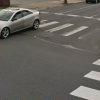Crosswalk: (47, 9, 100, 51)
